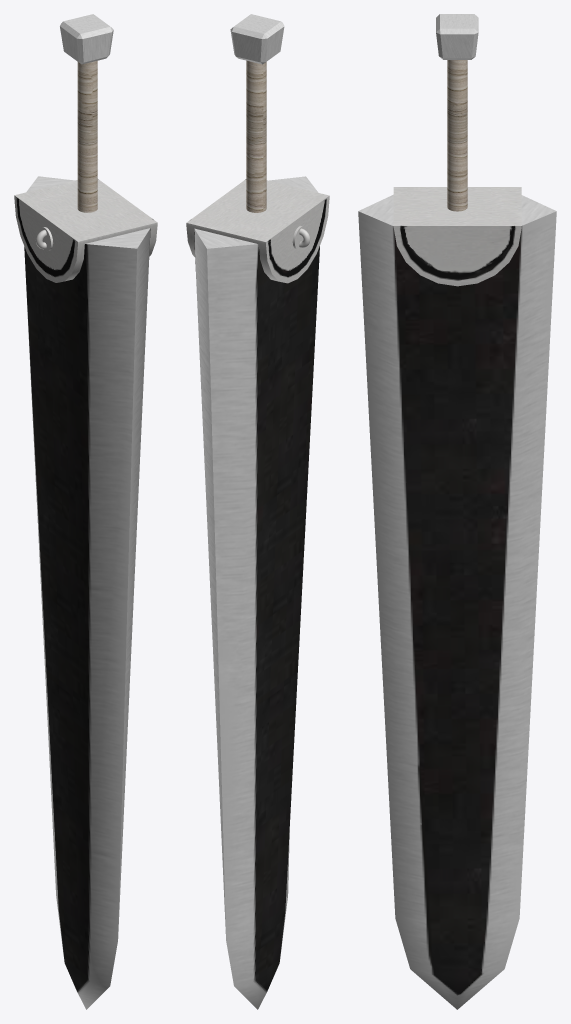
Rendered from sword2.fbx.
3 views of the same model, side by side, from view 1: azimuth 30°, elevation 25°; view 2: azimuth 150°, elevation 25°; view 3: azimuth 270°, elevation 25° (orthographic).
Parts seen in each view (by area): view 1: polySurface5; view 2: polySurface5; view 3: polySurface5.
Part boxes in pixels (x1,y1,x2,y2): polySurface5: [14, 14, 157, 1009]; polySurface5: [186, 14, 329, 1009]; polySurface5: [358, 14, 556, 1009].
Bounding box in the file's own units: 21.76 × 226 × 41.15.
